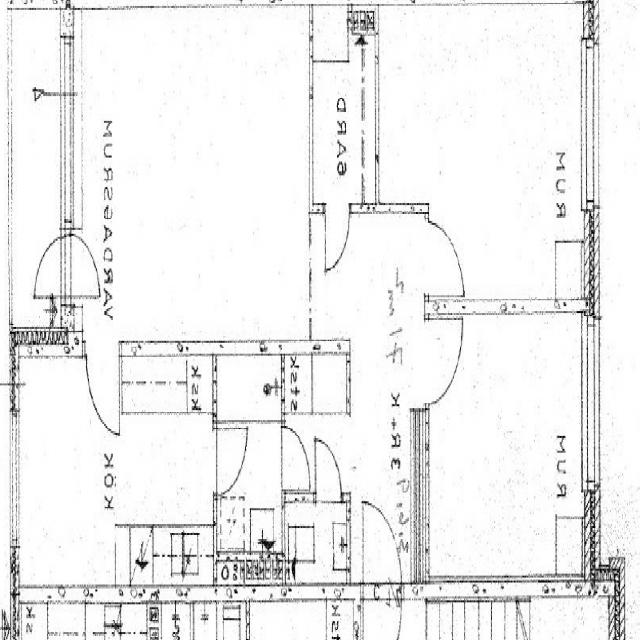door: (363, 500, 401, 602), (85, 340, 120, 433), (425, 217, 463, 293), (425, 315, 463, 390), (60, 233, 102, 295), (32, 233, 74, 295), (282, 425, 315, 489), (214, 427, 246, 493), (316, 435, 342, 501), (326, 204, 350, 266)
